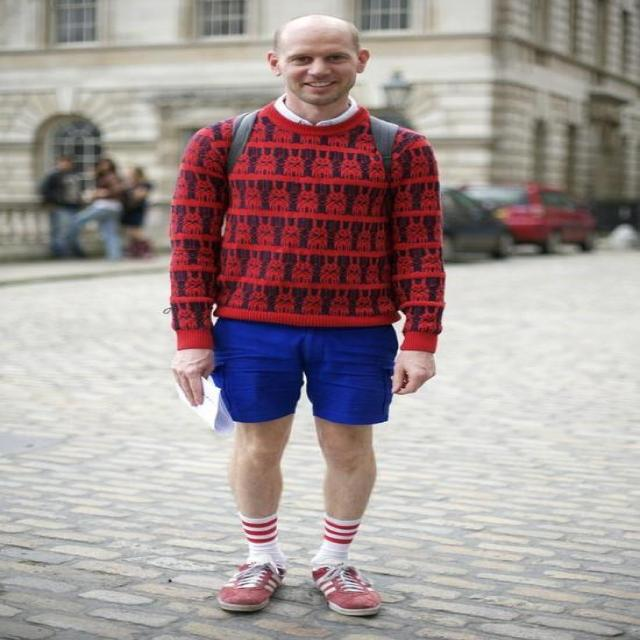short: (202, 314, 398, 424)
sweater: (168, 101, 444, 354)
